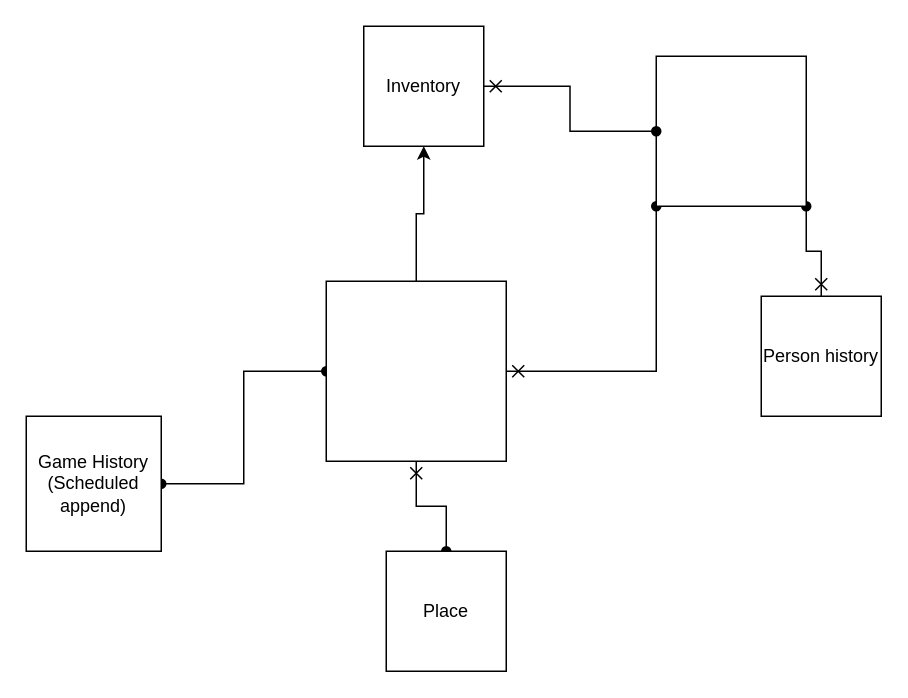
The diagram is 908 pixels wide and 698 high, and some of its shapes have lost their labels. Here are the shapes that lost their labels. From the top down, the centre of each, then its label:
(x=730, y=130): Person
(x=415, y=370): Game-generated events
